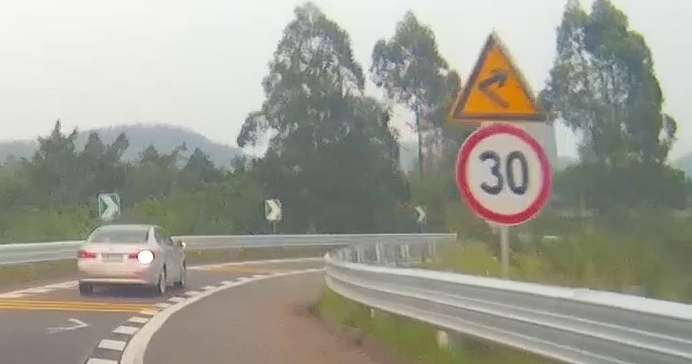L_light: (78, 249, 96, 258)
R_light: (129, 250, 155, 259)
T_light: (119, 228, 130, 232)
day-right: (77, 224, 158, 297)
